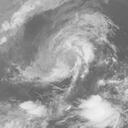cyclone: (37, 10, 109, 88)
